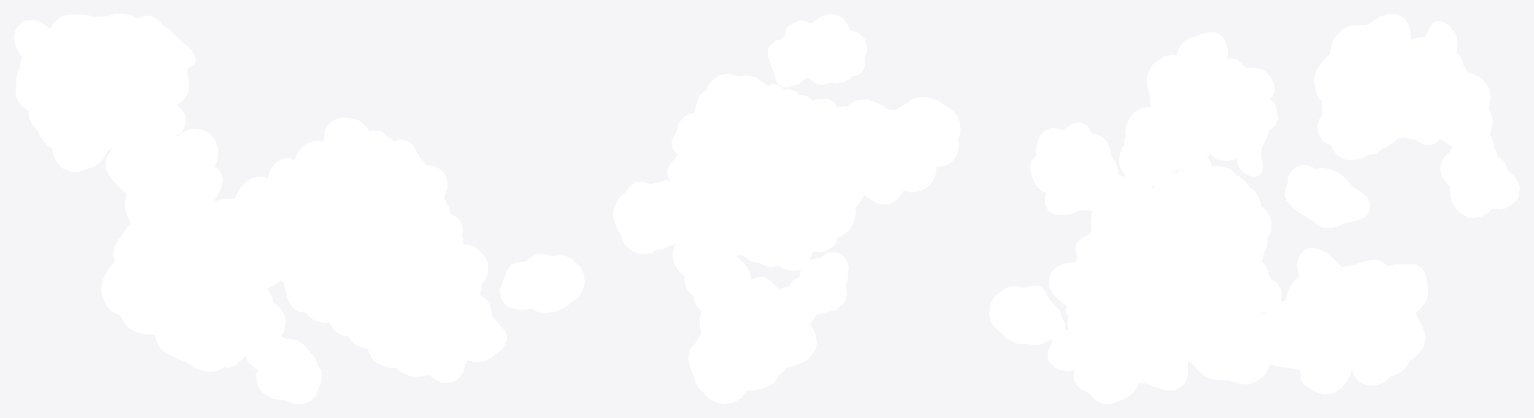
The model's file is nuvens.glb.
3 views of the same model, side by side, from view 1: azimuth 30°, elevation 25°; view 2: azimuth 150°, elevation 25°; view 3: azimuth 270°, elevation 25° (orthographic). The views are drawn at different scales.
Visible parts, largest first — view 1: base1; view 2: base1; view 3: base1.
Part boxes in pixels (x1,y1,x2,y2): base1: (14, 14, 584, 403); base1: (613, 14, 960, 403); base1: (989, 14, 1519, 403).
Size of the model in its own units: 15.39 by 13.69 by 20.28.
Materials: 1 (1 with a texture image).
